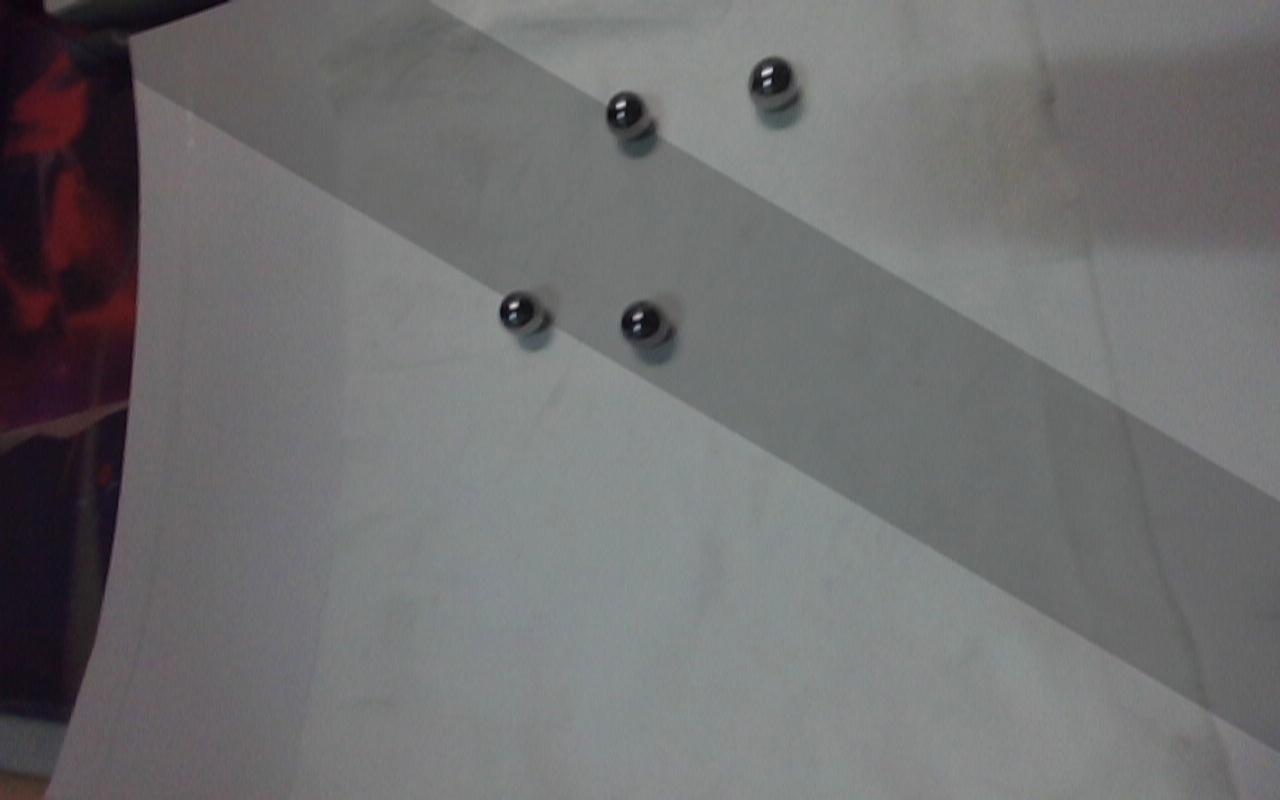ball: (489, 282, 560, 342), (613, 292, 676, 352), (741, 56, 806, 112), (602, 87, 651, 141)
